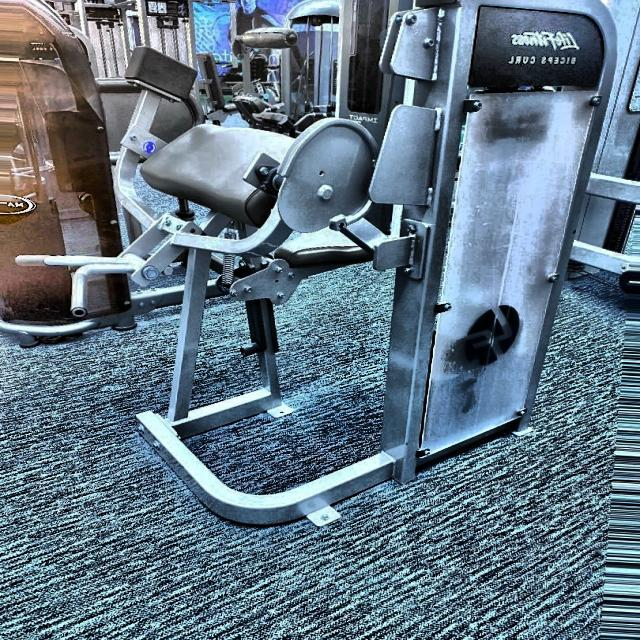bicep_curl_machine: (4, 0, 391, 537), (497, 52, 582, 72)
